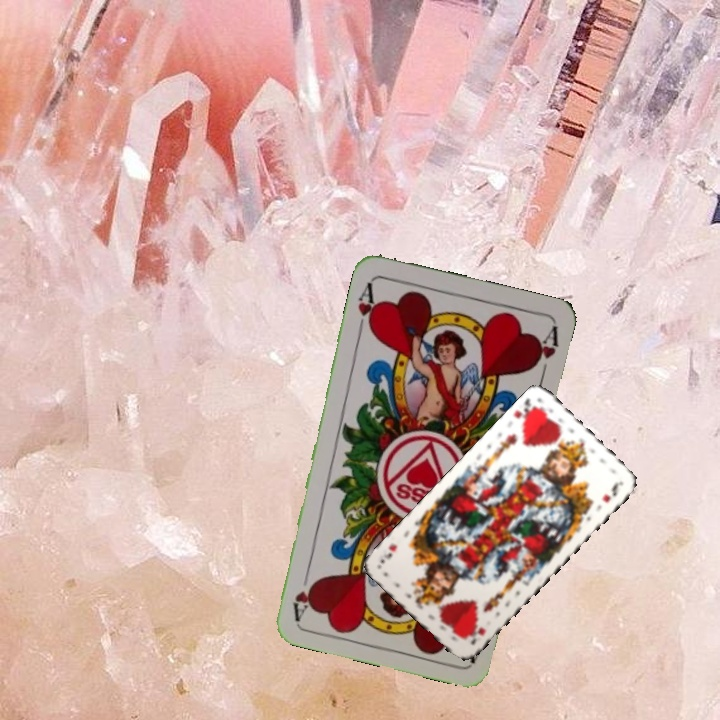HA: (353, 278, 381, 336)
HK: (510, 394, 541, 429), (467, 622, 488, 647)
